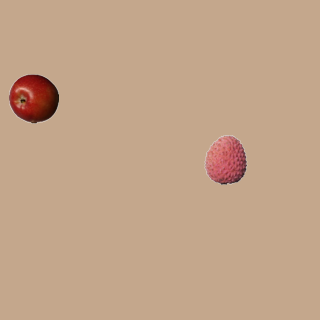Apple Braeburn: (8, 73, 58, 123)
Lychee: (200, 134, 250, 184)
